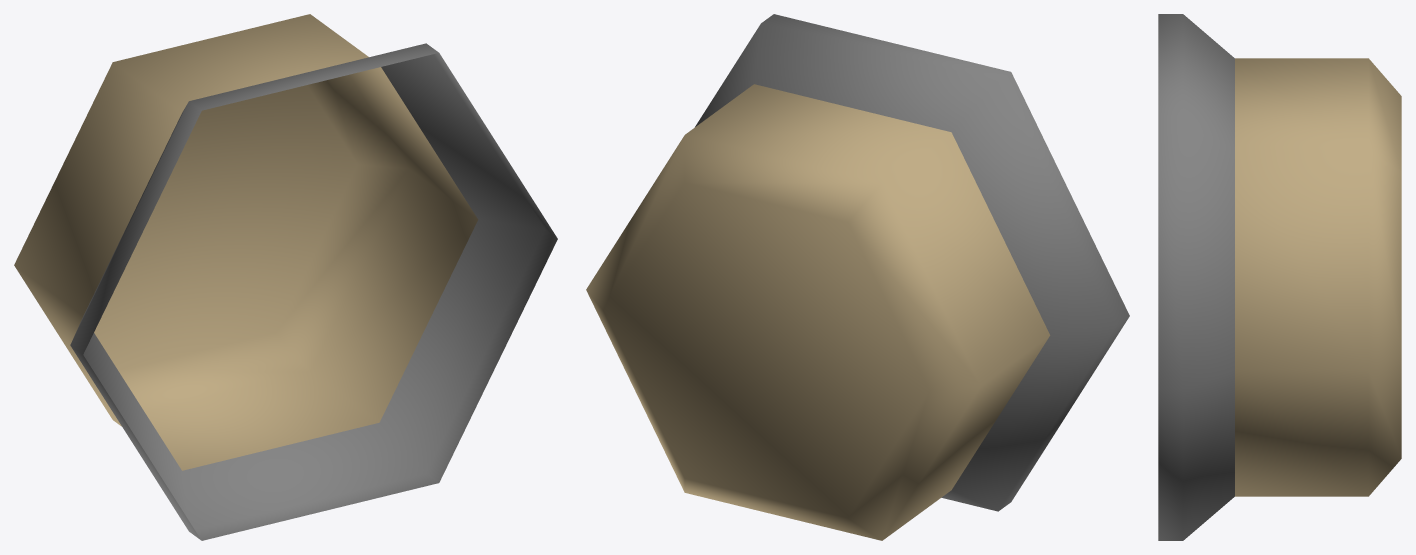
File: Flash_lights.fbx
3 views of the same model, side by side, from view 1: azimuth 30°, elevation 25°; view 2: azimuth 150°, elevation 25°; view 3: azimuth 270°, elevation 25° (orthographic). The views are drawn at different scales.
Parts seen in each view (by area): view 1: flashlight; view 2: flashlight; view 3: flashlight.
Part boxes in pixels (x1,y1,x2,y2): flashlight: (14,14,557,540); flashlight: (586,14,1129,540); flashlight: (1158,14,1401,540).
Bounding box in the file's own units: 16 × 13.86 × 7.37.
